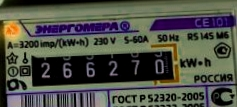0: (153, 57, 165, 74)
2: (38, 60, 52, 78), (107, 58, 119, 76)
6: (61, 60, 74, 78), (84, 60, 97, 78)
7: (130, 57, 142, 75)
screen: (20, 39, 185, 95)
